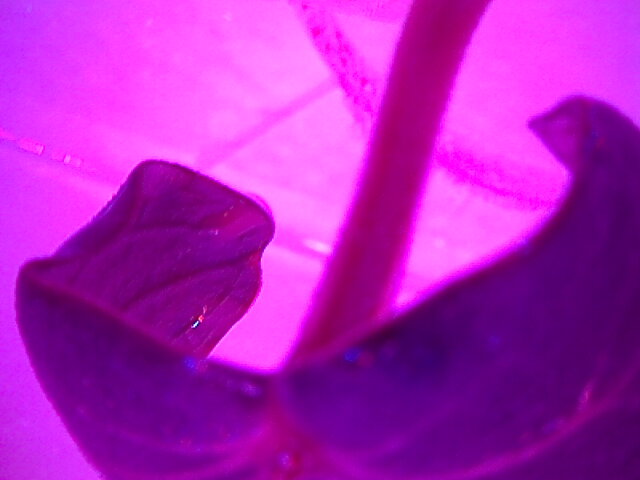seedling: (21, 100, 636, 480)
